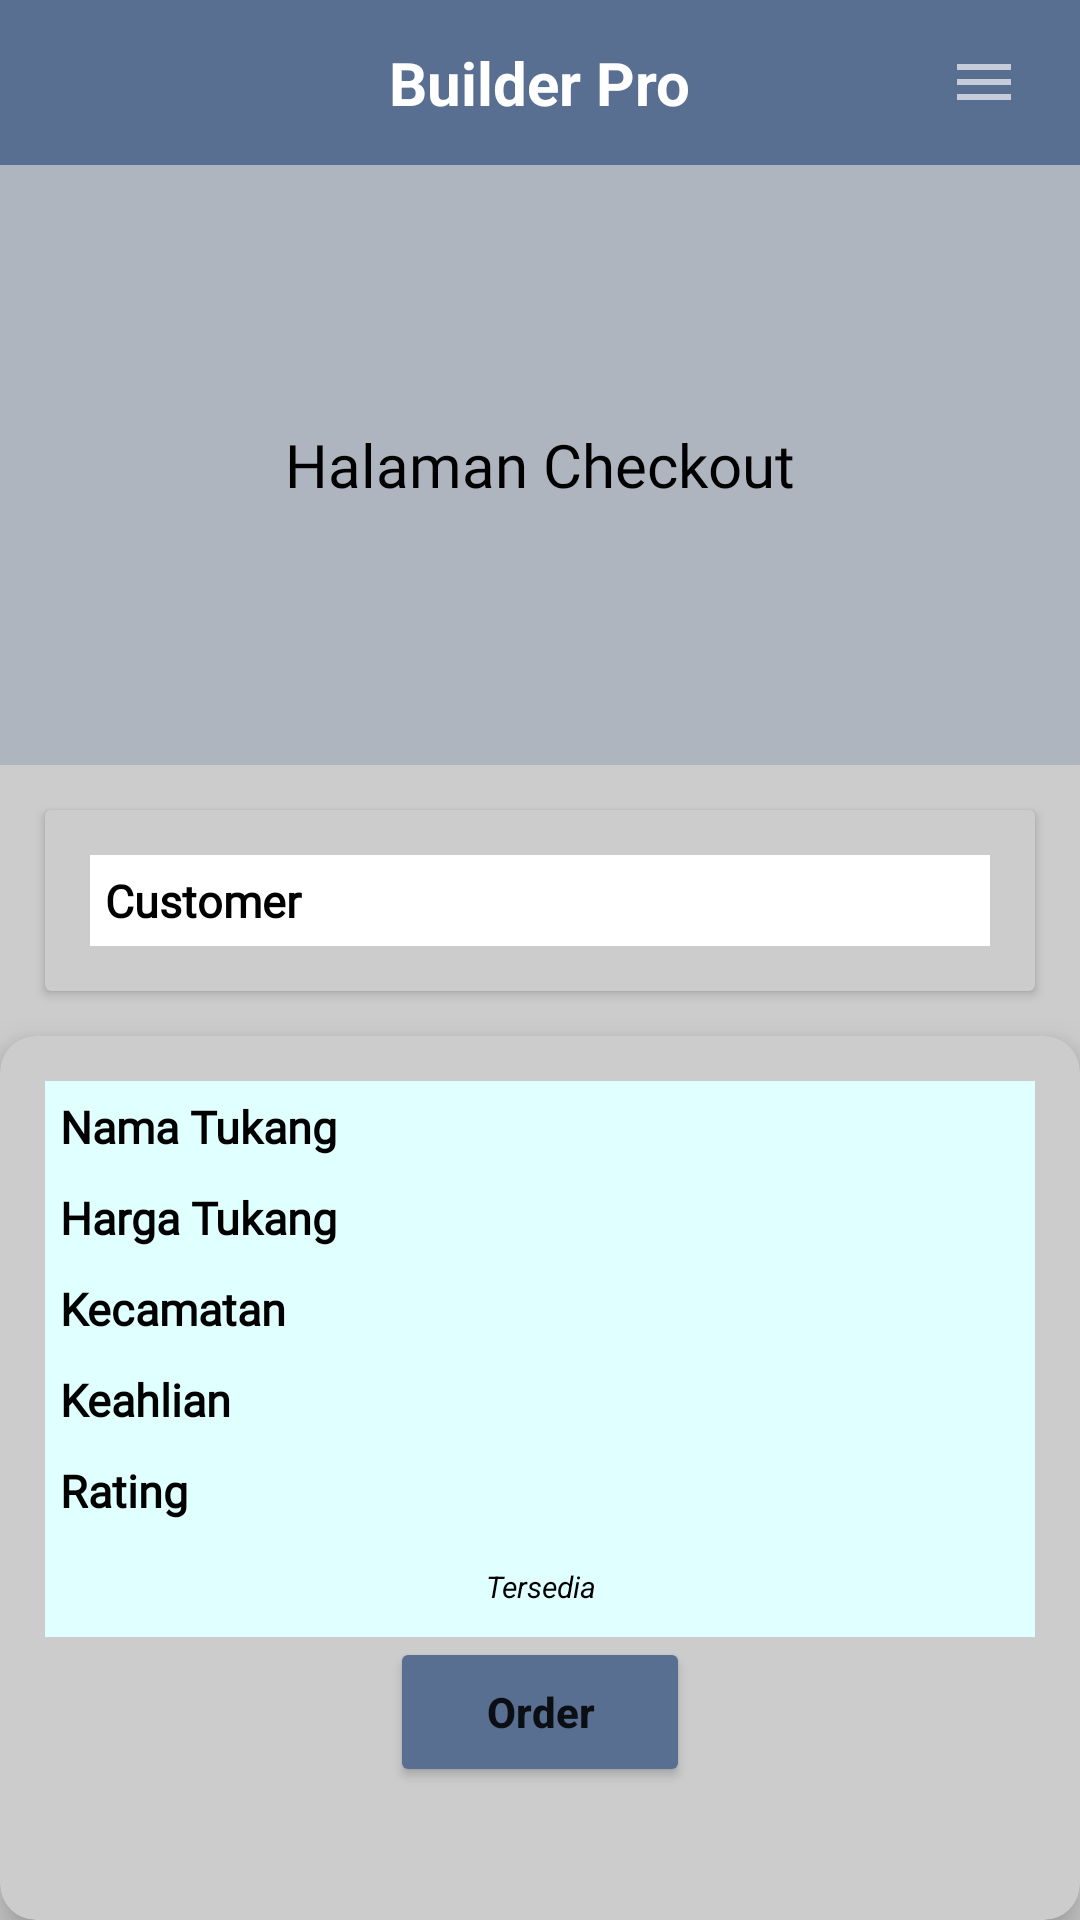

Icon click points for this 1080 x 1920 phone screenshot, format [x,y]:
menu: [984,82]
